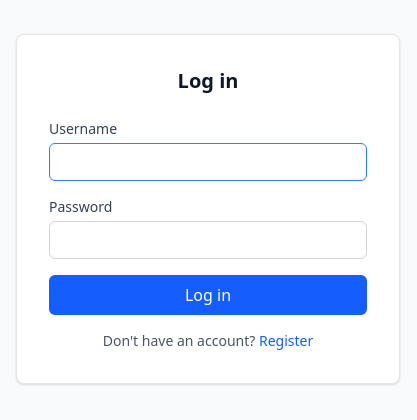
Test: LoginPage › shows the backend's error message and does not navigate on failure
Type "alice" into the field labelled "Username".
click(208, 162); type("alice")  # box [49,143,367,181]
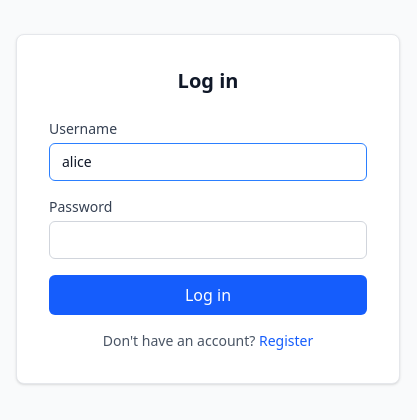
Type "wrong-password" into the password field labelled "Password".
click(208, 240); type("wrong-password")  # box [49,221,367,259]
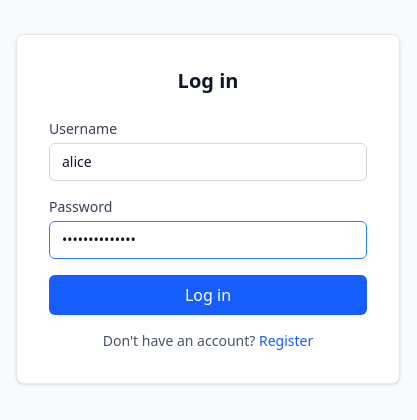
Click the button "Log in".
click(208, 295)  # box [49,275,367,315]
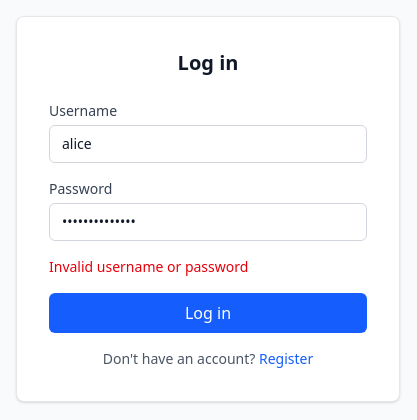
Check: the text "Invalid username or password" is shown, box [49,257,248,276]
